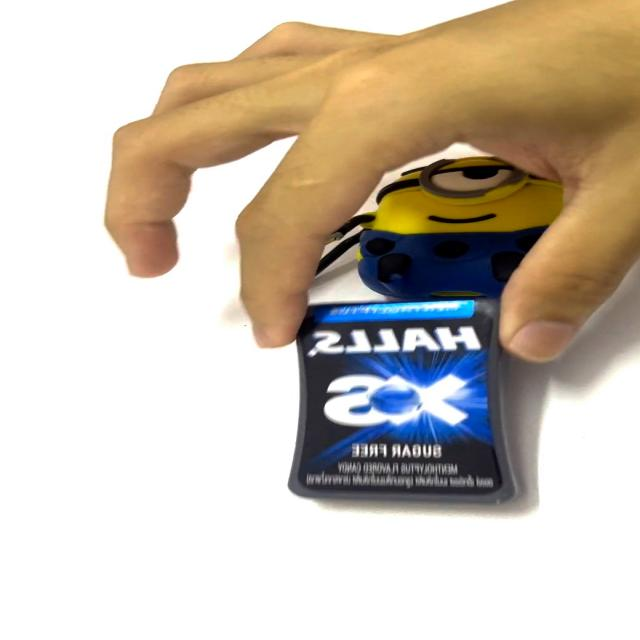airpod minion: (307, 156, 568, 298)
mint hall: (282, 290, 517, 524)
